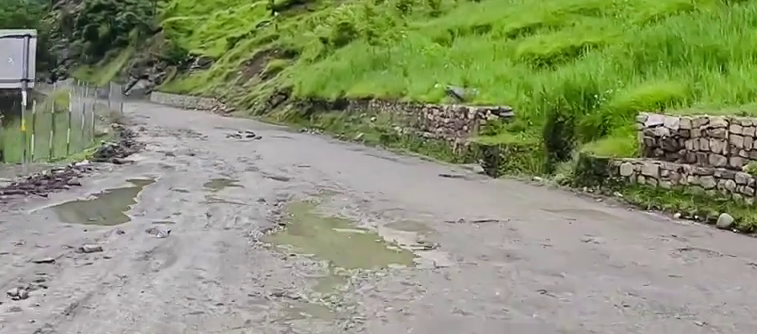unexpected: (84, 160, 493, 311)
